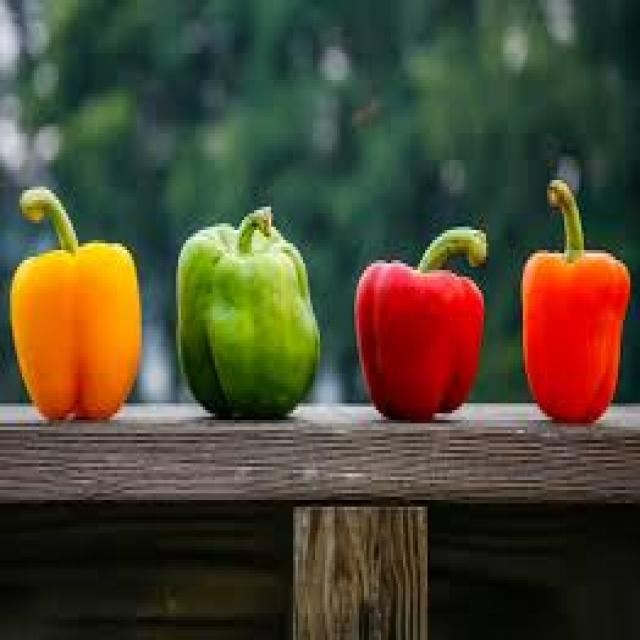Pepper: (175, 208, 321, 423), (9, 194, 143, 423), (353, 262, 485, 424), (520, 250, 631, 428)
